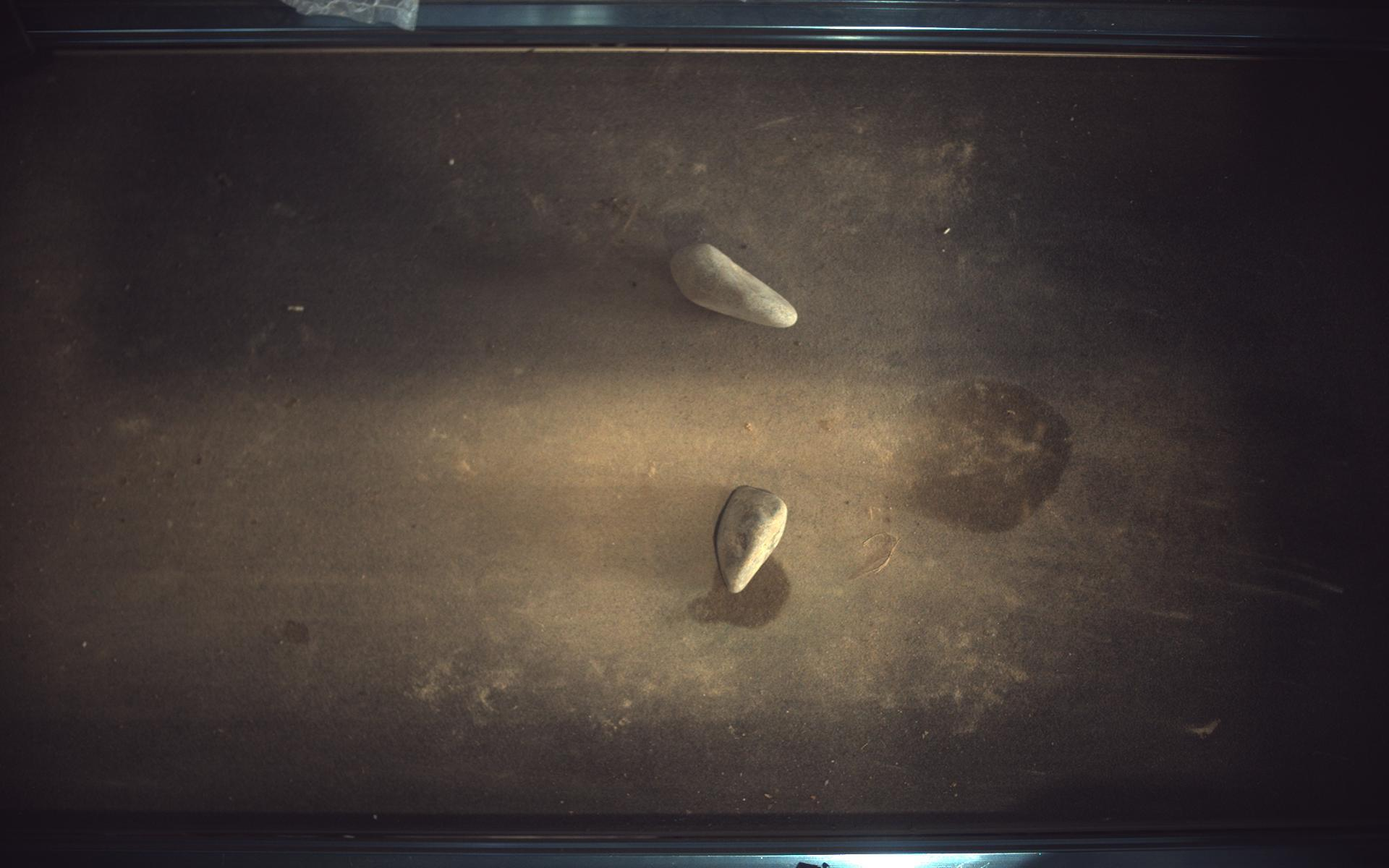stone: (671, 243, 799, 328), (717, 486, 789, 595)
